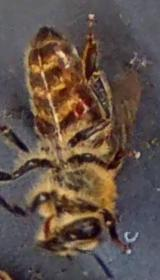varroa_mite: (64, 86, 98, 124)
